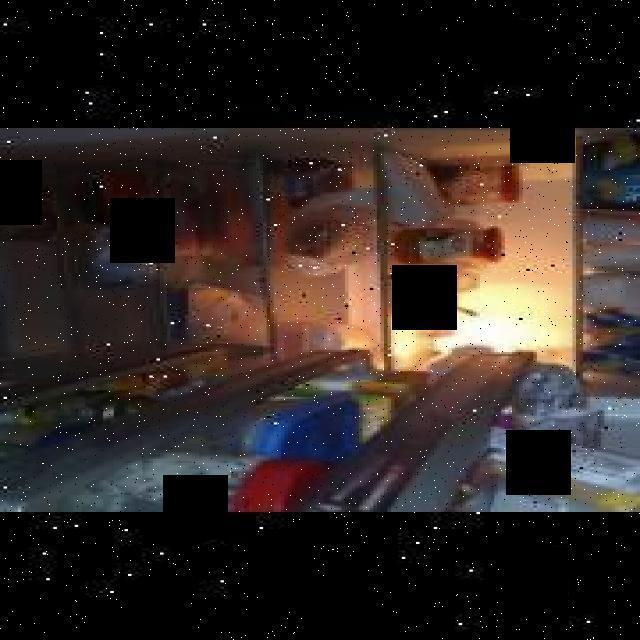yogurt: (579, 215, 640, 245), (576, 245, 640, 271)
